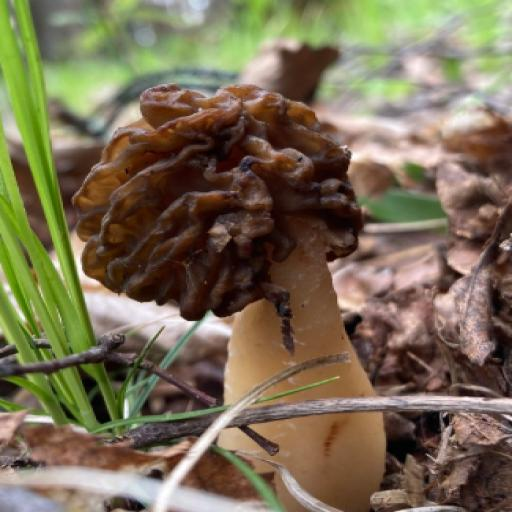False Morel: (73, 69, 368, 417)
